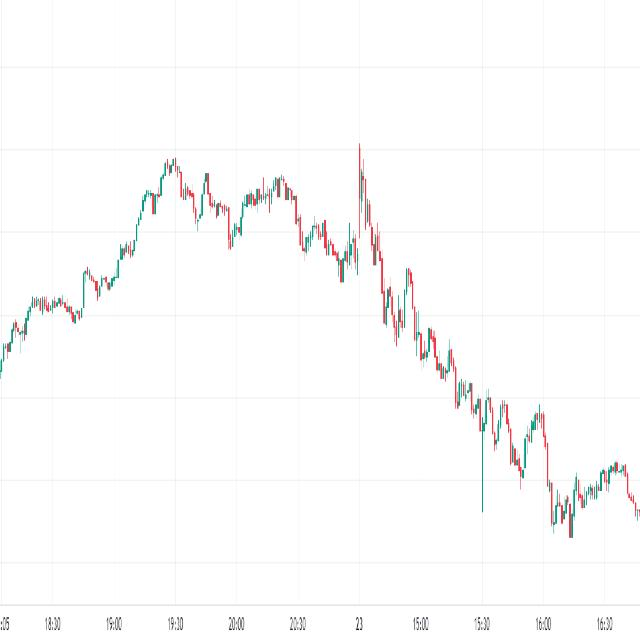Channel-down: (368, 233, 530, 487)
Descending-Triangle: (133, 111, 242, 229)
Head-Shoulders: (130, 146, 200, 264)
Rounding-Top: (0, 126, 512, 440)
